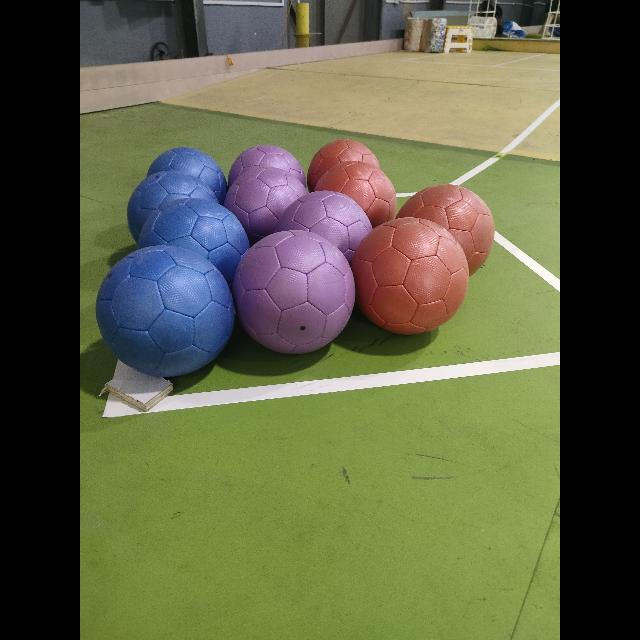B: (96, 245, 234, 377), (142, 198, 246, 292), (147, 148, 227, 205)
P: (233, 230, 355, 352), (276, 192, 370, 282), (228, 144, 306, 188)
R: (352, 217, 468, 333), (402, 186, 494, 280), (314, 161, 396, 227)
